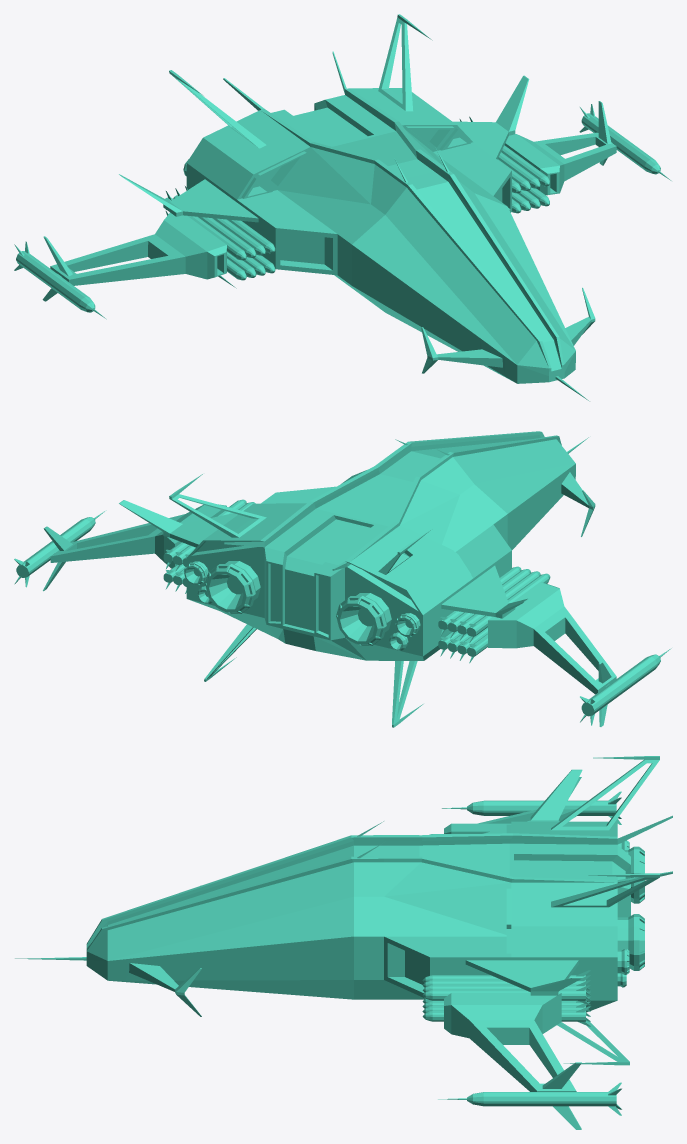
The model's file is CobraInterceptor.obj.
The picture shows the model from 3 angles, top to bottom: view 1: azimuth 30°, elevation 25°; view 2: azimuth 150°, elevation 25°; view 3: azimuth 270°, elevation 25°; orthographic projection. The views are drawn at different scales.
Parts seen in each view (by area): view 1: Object01; view 2: Object01; view 3: Object01.
Part boxes in pixels (x1,y1,x2,y2): Object01: (14,14,671,401); Object01: (14,431,671,727); Object01: (15,756,672,1129).
Bounding box in the file's own units: 68.48 × 21.64 × 64.14.
